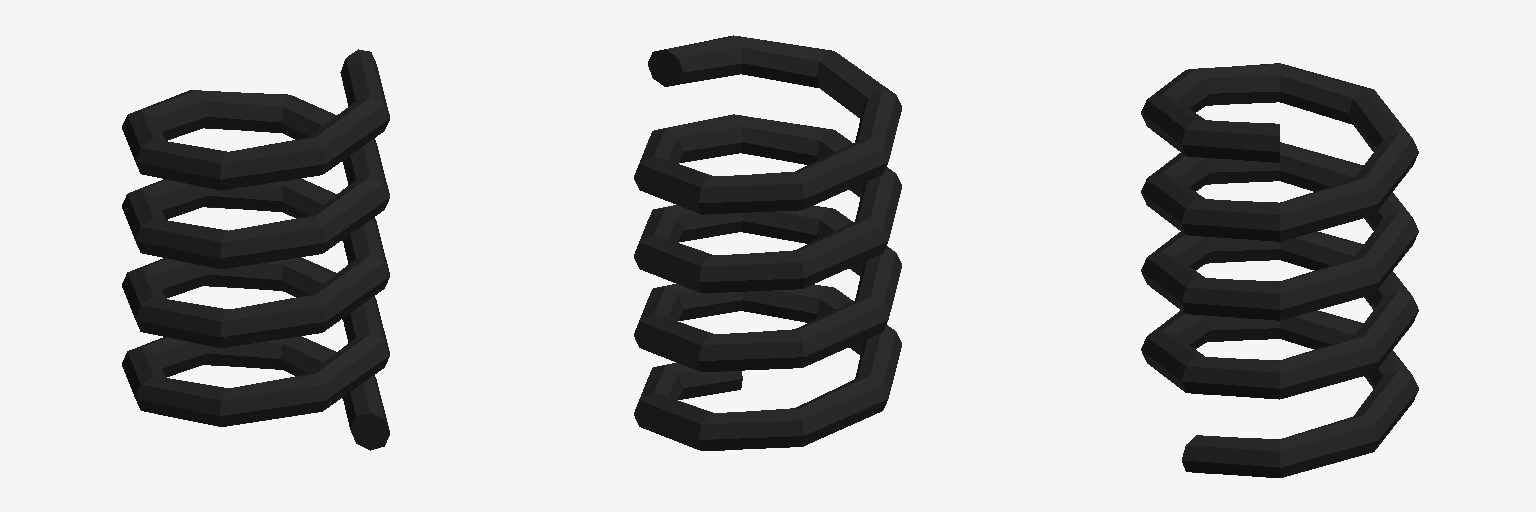
The model's file is spring.obj.
3 views of the same model, side by side, from view 1: azimuth 30°, elevation 25°; view 2: azimuth 150°, elevation 25°; view 3: azimuth 270°, elevation 25° (orthographic).
Parts seen in each view (by area): view 1: spring; view 2: spring; view 3: spring.
Part boxes in pixels (x1,y1,x2,y2): spring: (122, 49, 389, 450); spring: (634, 35, 901, 450); spring: (1141, 63, 1418, 477).
Size of the model in its own units: 1.9 by 2.73 by 1.9.